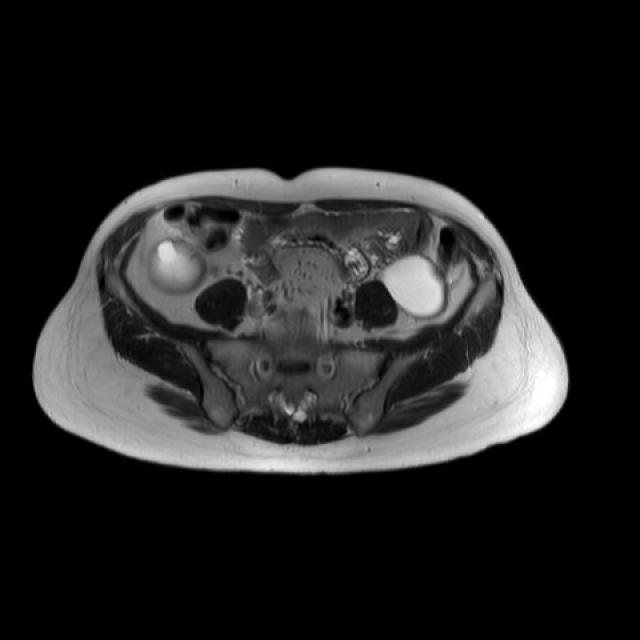sag: (149, 241, 207, 292)
sol: (383, 255, 450, 318)
